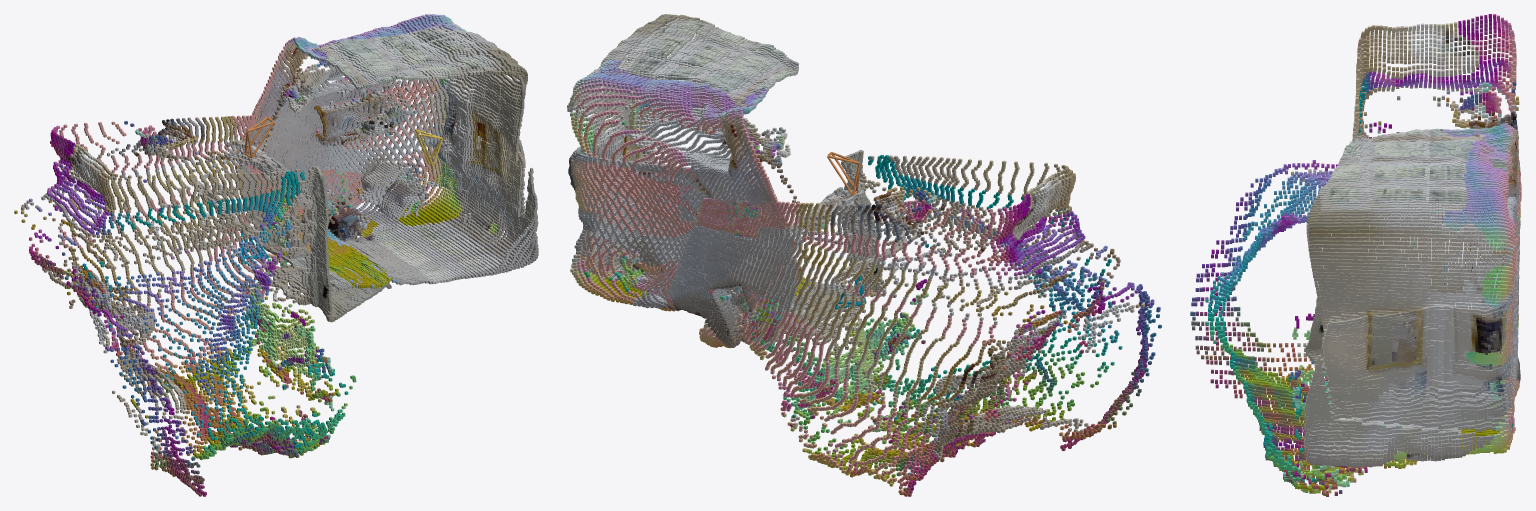
The model's file is pred-compressed.glb.
3 views of the same model, side by side, from view 1: azimuth 30°, elevation 25°; view 2: azimuth 150°, elevation 25°; view 3: azimuth 270°, elevation 25° (orthographic). The views are drawn at different scales.
Size of the model in its own units: 9.92 by 7.25 by 5.24.
